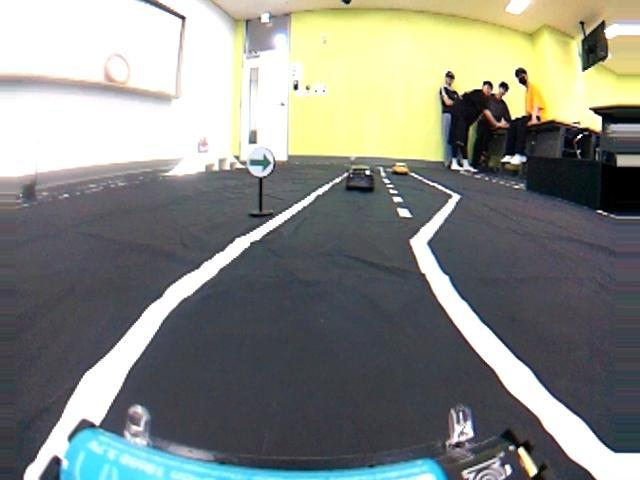car: (345, 166, 379, 194), (392, 162, 409, 174)
sign_right: (248, 147, 276, 178)
straight: (9, 238, 617, 480)
